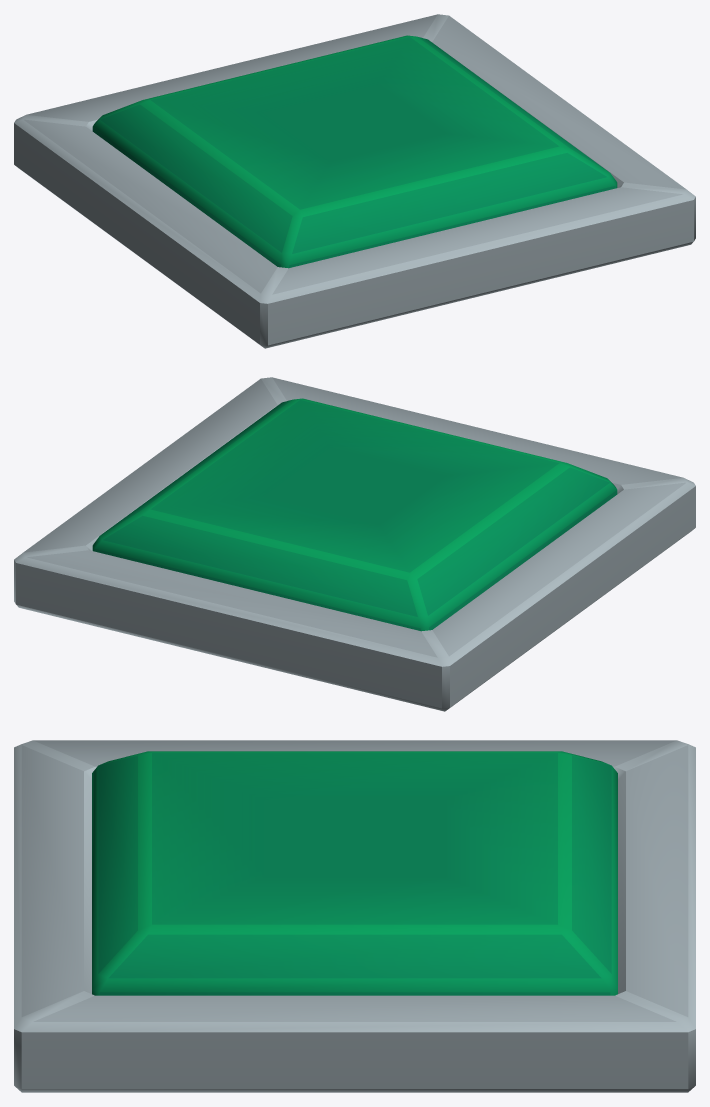
The model's file is bouton.glb.
3 renders of one model, top to bottom at view 1: azimuth 30°, elevation 25°; view 2: azimuth 150°, elevation 25°; view 3: azimuth 270°, elevation 25°, orthographic. The views are drawn at different scales.
Visible parts, largest first — view 1: button_green, button_base_green; view 2: button_green, button_base_green; view 3: button_green, button_base_green.
Part boxes in pixels (bbox=[...]): button_green: bbox=[92, 35, 617, 268]; button_base_green: bbox=[14, 14, 695, 348]; button_green: bbox=[92, 398, 617, 631]; button_base_green: bbox=[14, 377, 695, 711]; button_green: bbox=[92, 751, 617, 995]; button_base_green: bbox=[14, 740, 695, 1092].
Bounding box in the file's own units: 1.75 × 0.32 × 1.75.
Materials: 1 (1 with a texture image).
